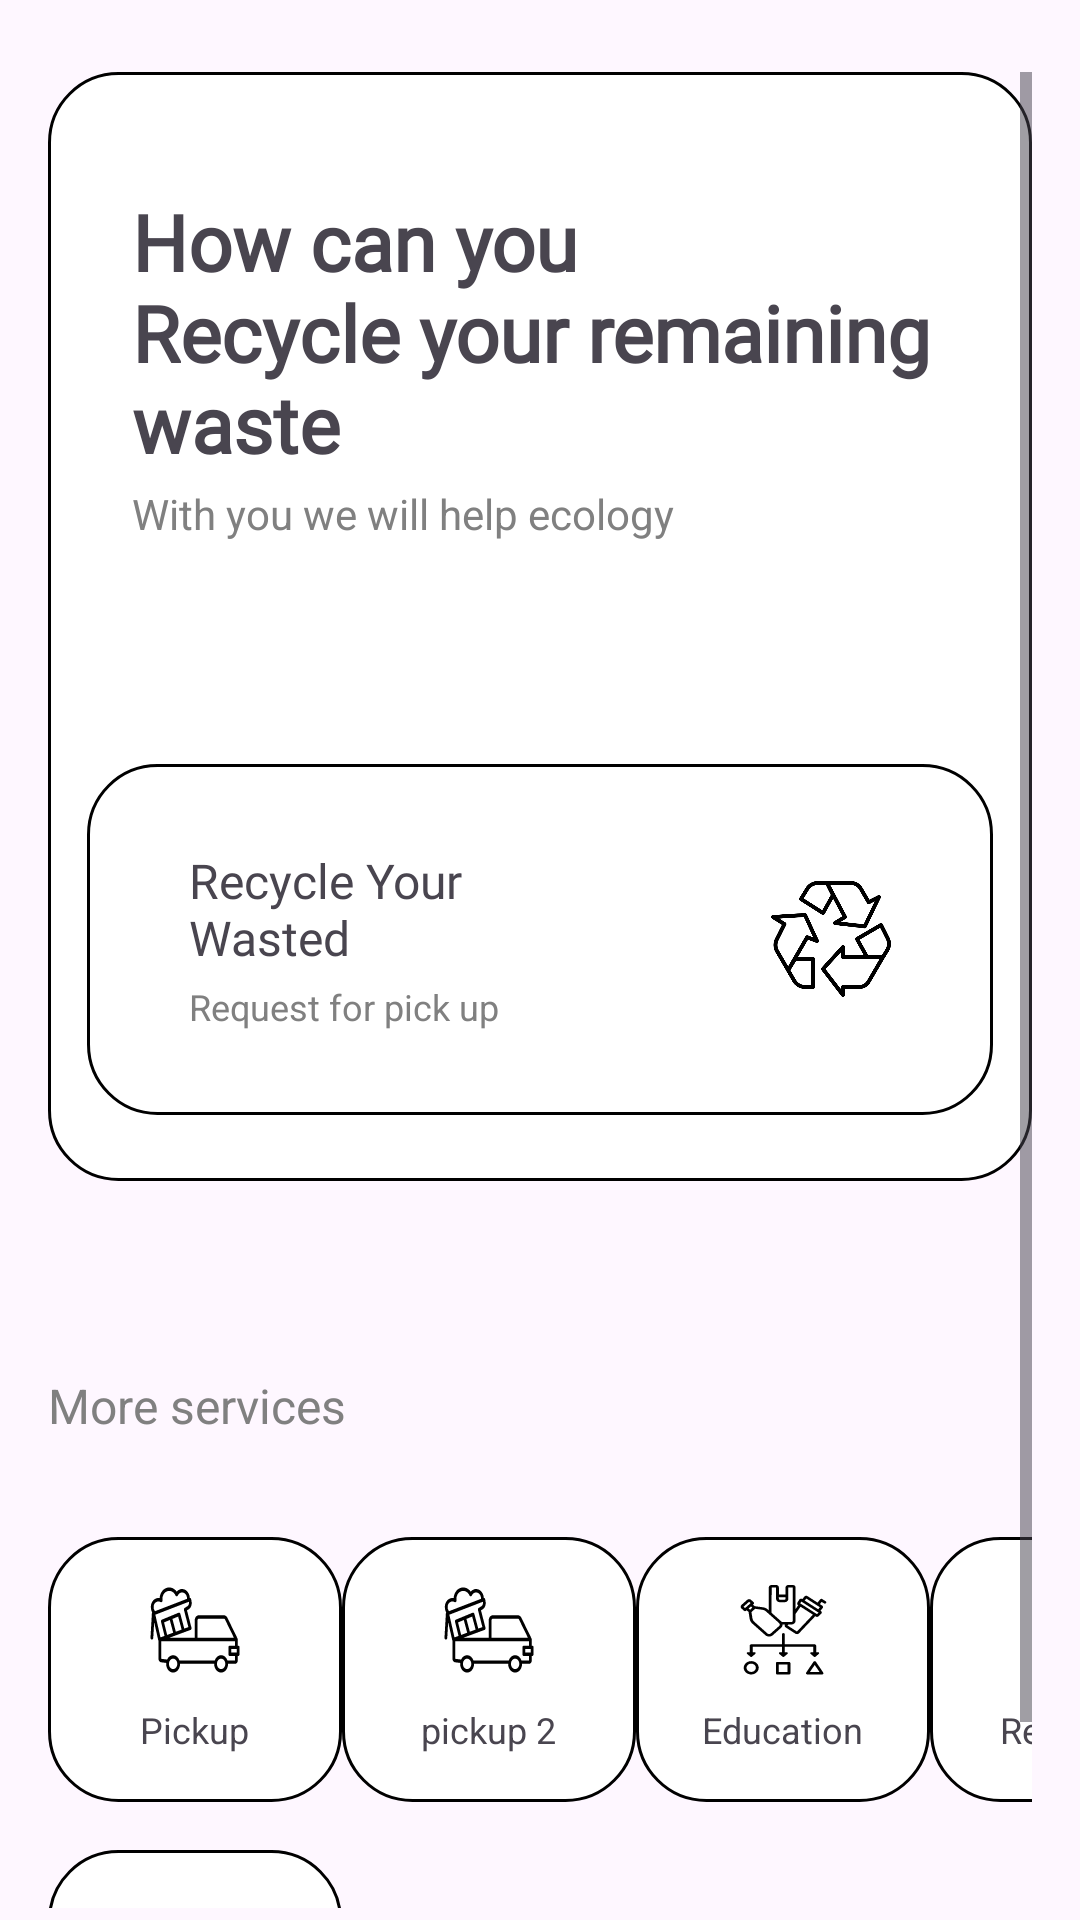

Icon bounding boxes for this 1080 × 1920 phone screenshot, format (x1,y1,x2,y2):
recycle: (771,881,891,997)
